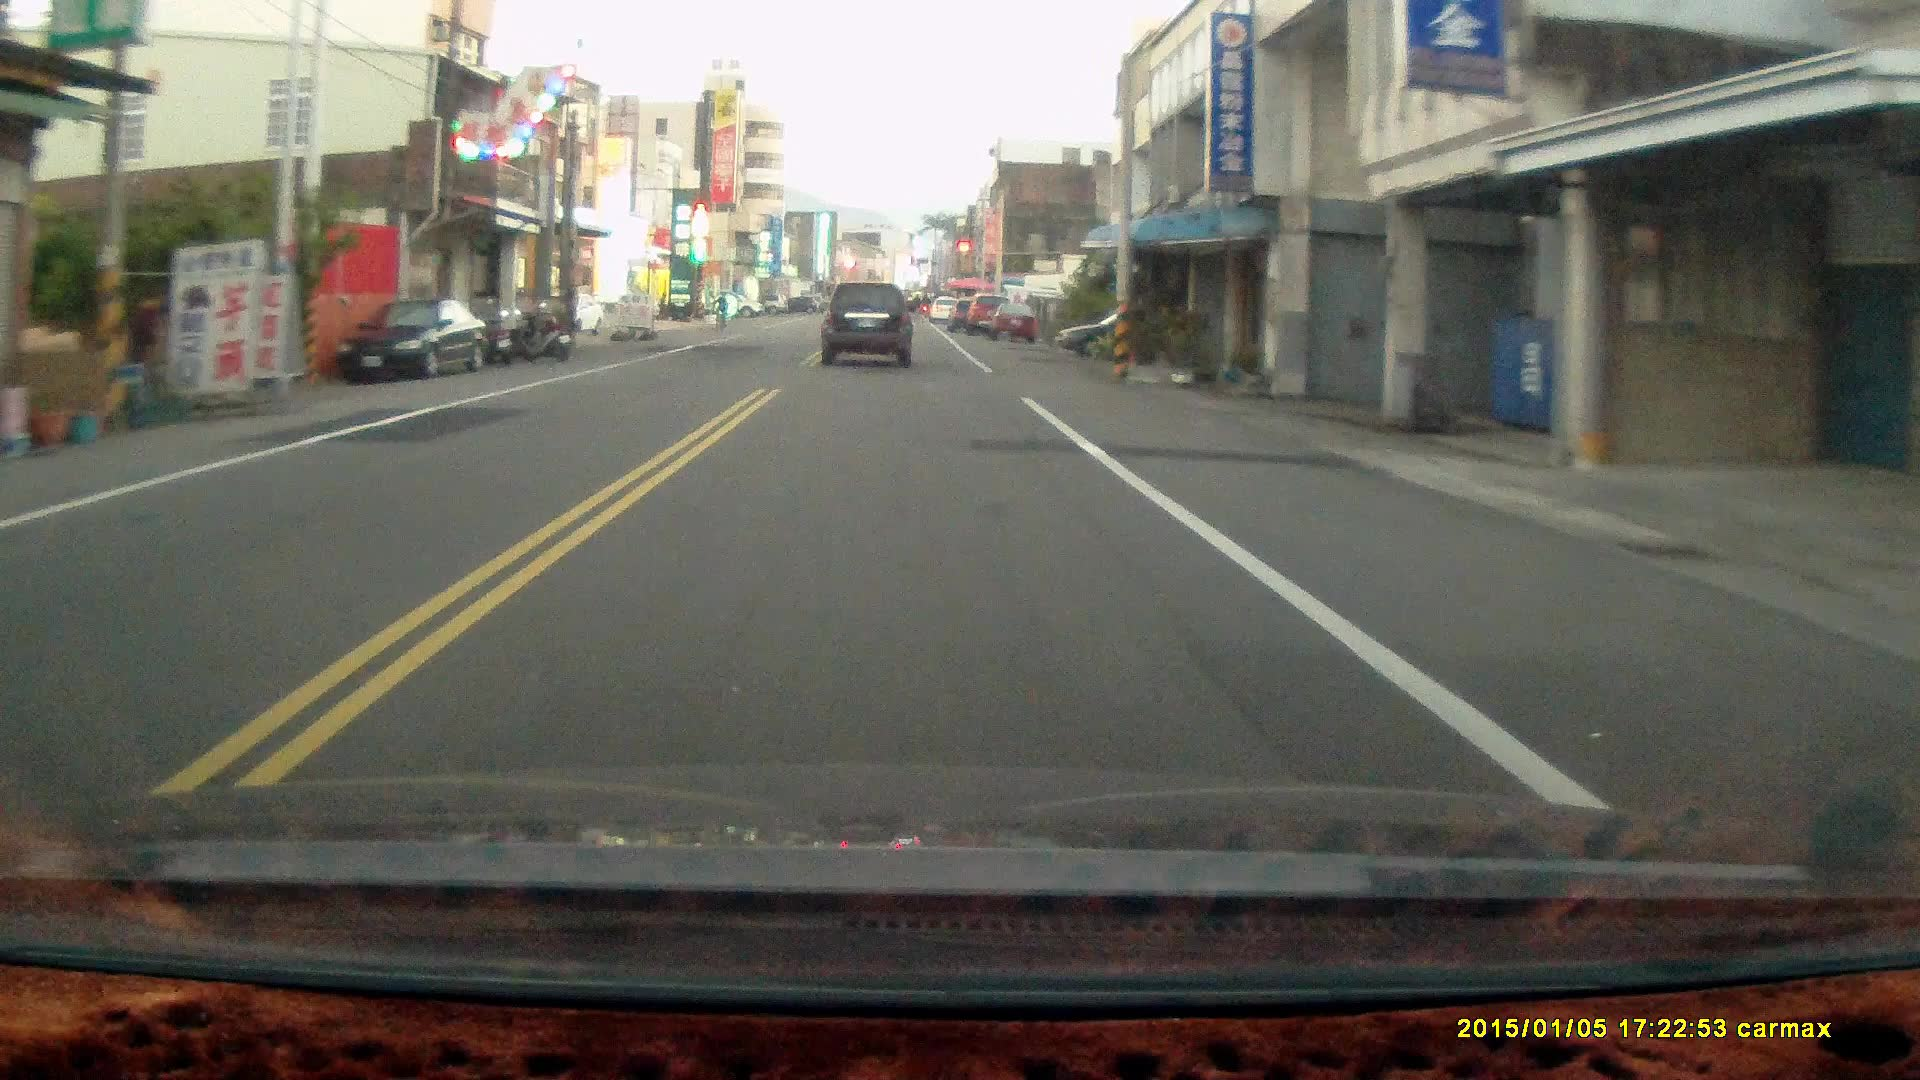pedestrian: (121, 294, 160, 415)
rider: (707, 291, 729, 331)
vehicle: (334, 298, 492, 387), (820, 281, 917, 370)
